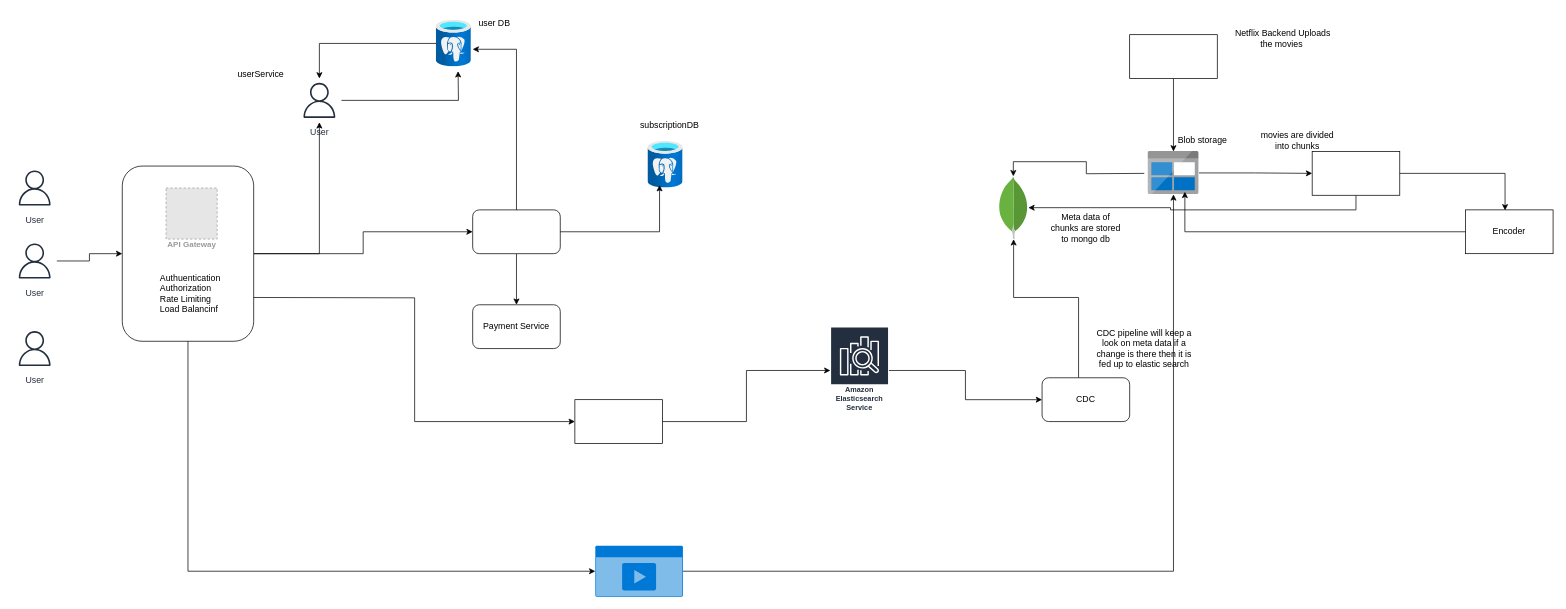
The diagram is 1566 pixels wide and 609 high, and some of its shapes have lost their labels. Grey dashed boxes stand in for pictures. Here are the shapes that lost their labels. From the top down, the centre of each, then its label:
At pixel 1173 56: "Netflix Backend".
At pixel 1355 173: "Chunker service".
At pixel 516 231: "Subscription Service".
At pixel 618 421: "Search functionality".
At pixel 639 570: "Video".
